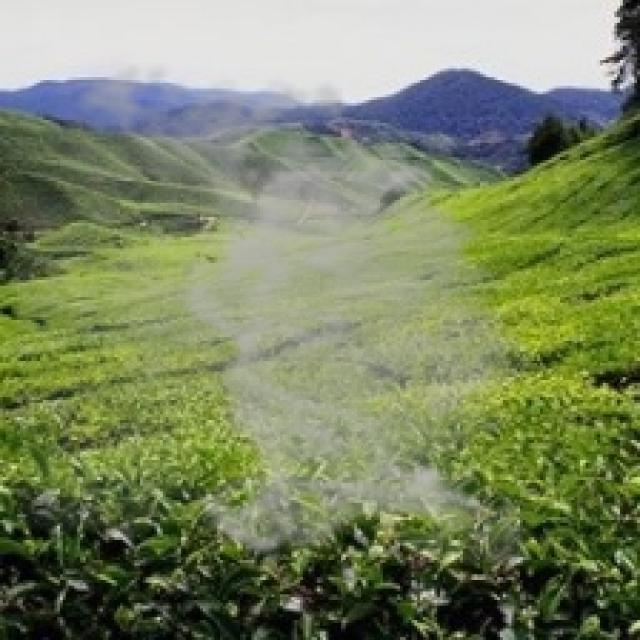smoke: (17, 48, 552, 563)
